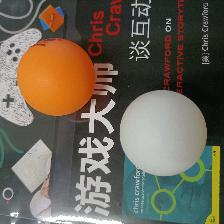WhiteBall: (118, 89, 207, 176)
YellowBall: (15, 38, 96, 116)
